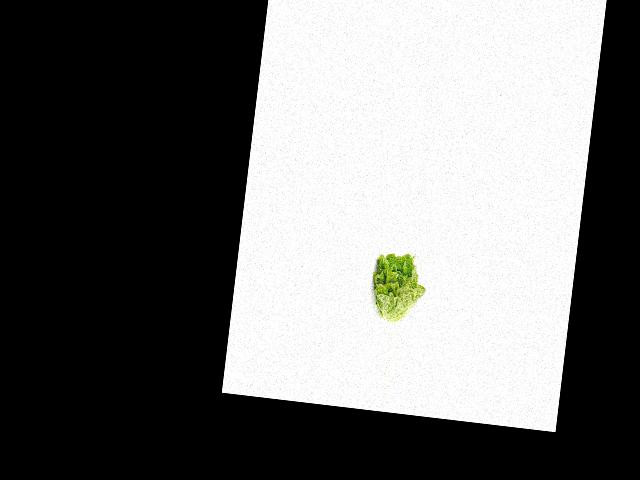lettuce: (364, 250, 428, 325)
